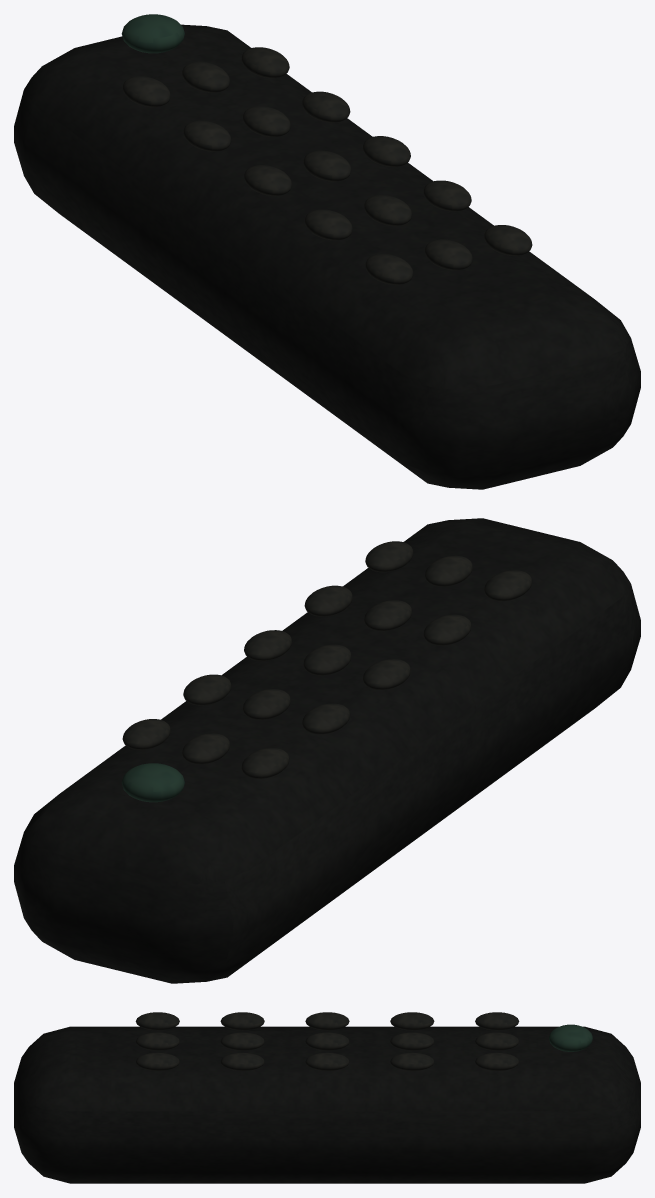
Rendered from Remote.fbx.
3 renders of one model, top to bottom at view 1: azimuth 30°, elevation 25°; view 2: azimuth 150°, elevation 25°; view 3: azimuth 270°, elevation 25°, orthographic. The views are drawn at different scales.
Visible parts, largest first — view 1: Remote_Rubber, Remote_Iron, Remote_BookRed; view 2: Remote_Rubber, Remote_Iron, Remote_BookRed; view 3: Remote_Rubber, Remote_Iron, Remote_BookRed.
Part boxes in pixels (left/top/right/bottom): Remote_Rubber: left=14, top=24, right=640, bottom=489; Remote_Iron: left=122, top=47, right=532, bottom=284; Remote_BookRed: left=121, top=14, right=184, bottom=53; Remote_Rubber: left=14, top=518, right=640, bottom=983; Remote_Iron: left=122, top=541, right=532, bottom=778; Remote_BookRed: left=121, top=763, right=184, bottom=802; Remote_Rubber: left=14, top=1026, right=640, bottom=1183; Remote_Iron: left=135, top=1012, right=519, bottom=1070; Remote_BookRed: left=549, top=1024, right=592, bottom=1051.
Size of the model in its own units: 5.2 by 4 by 17.
